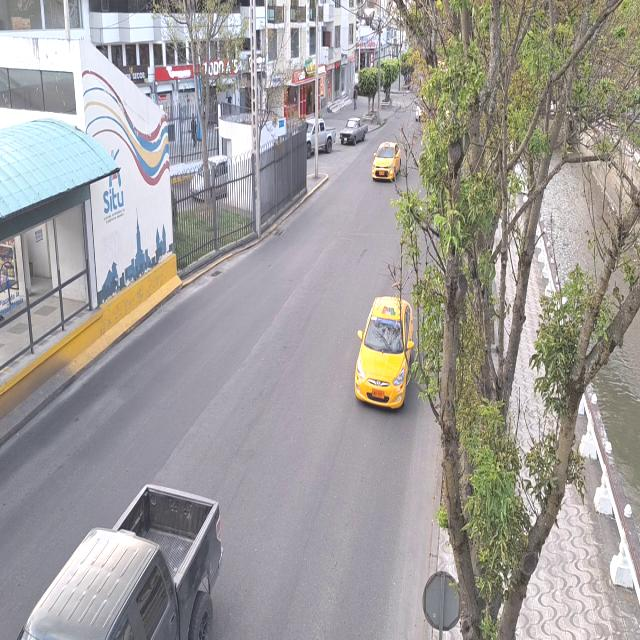CMT: (15, 483, 218, 640)
